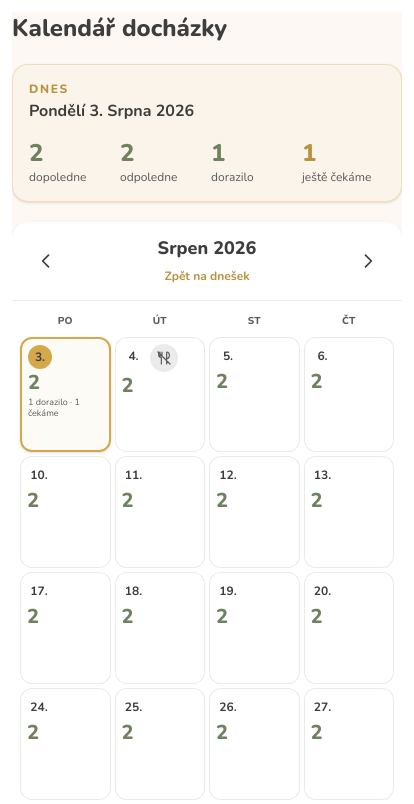
Test: AttendanceCalendar day preview › updates the preview immediately when the pointer moves to another day
The image size is (414, 804).
Step 1. Hover over the button with aria-label "pondělí 3. srpna 2026, 2 očekáváno" → {"x": 65, "y": 394}, box [20,337,110,452]
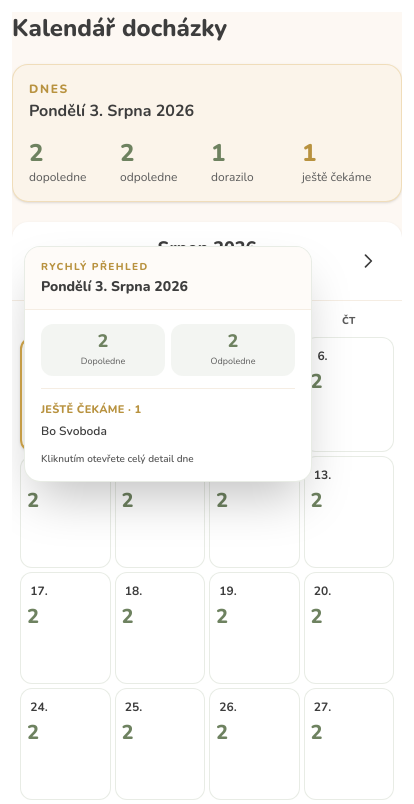
Check: the tooltip shows "pondělí 3. srpna 2026", box [41,277,188,296]
Step 2. Move the pointer off the button with aria-label "pondělí 3. srpna 2026, 2 očekáváno", box [20,337,110,452]
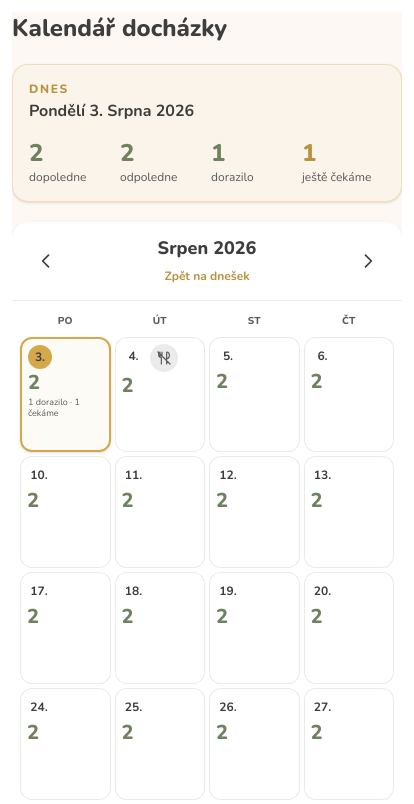
Step 3. Hover over the button named "úterý 4. srpna 2026, 2 očekáváno" → {"x": 160, "y": 394}, box [114,337,205,452]
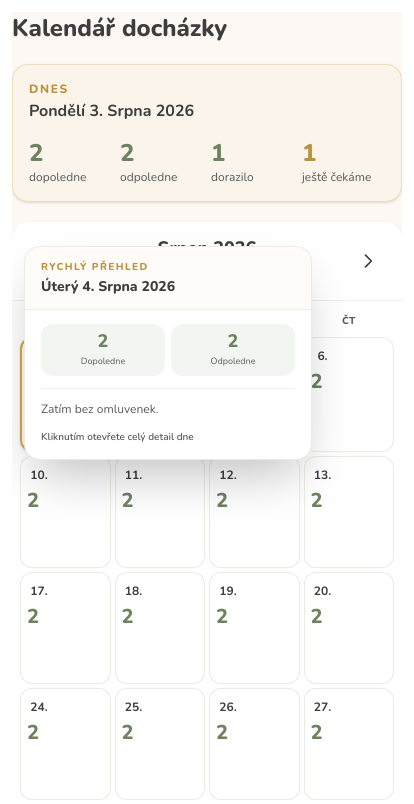
Check: the tooltip shows "úterý 4. srpna 2026", box [41,277,175,296]
